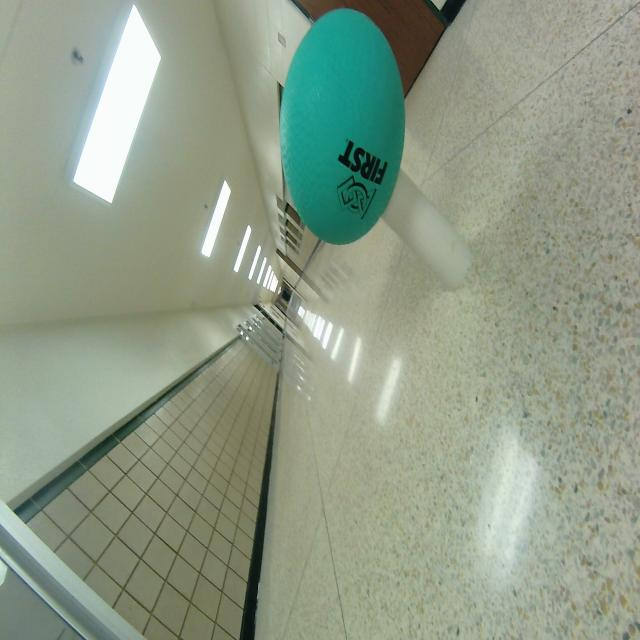algae: (280, 8, 404, 244)
coral: (382, 169, 470, 291)
